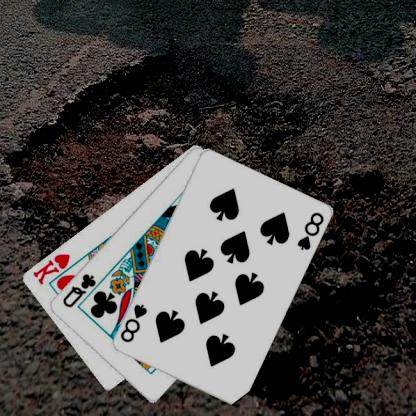8S: (119, 301, 150, 344), (296, 209, 327, 252)
KH: (31, 251, 73, 286)
QC: (61, 271, 99, 309)
